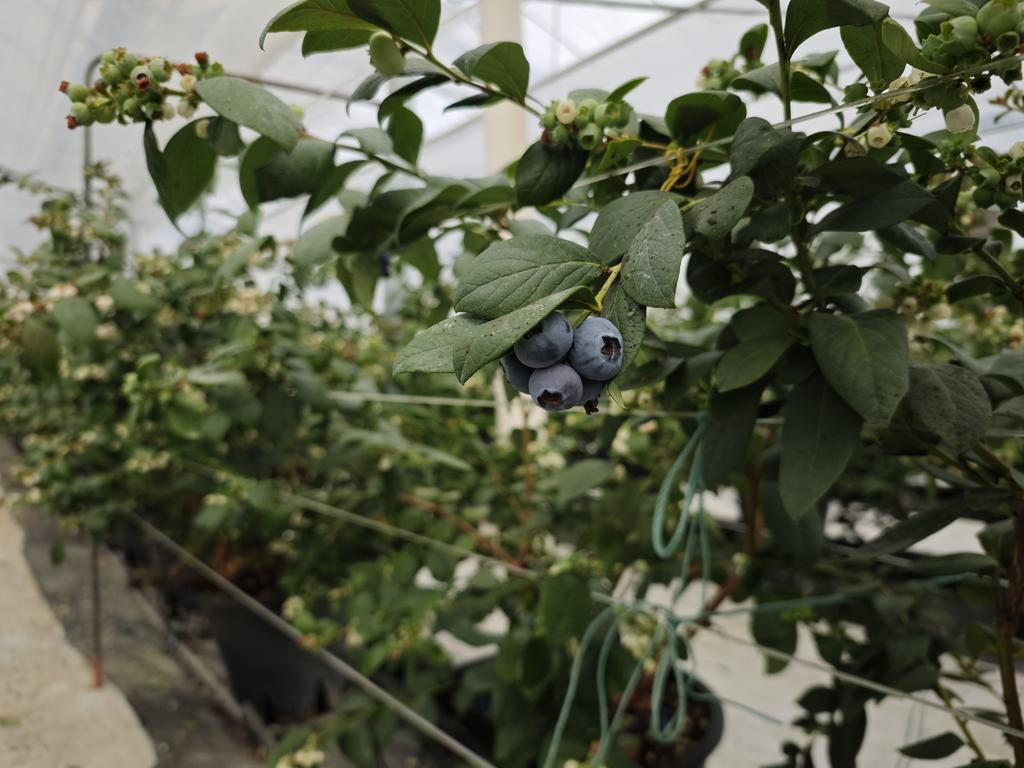RipeBlueBerry: (514, 309, 574, 369), (574, 314, 625, 380), (525, 364, 585, 412)
